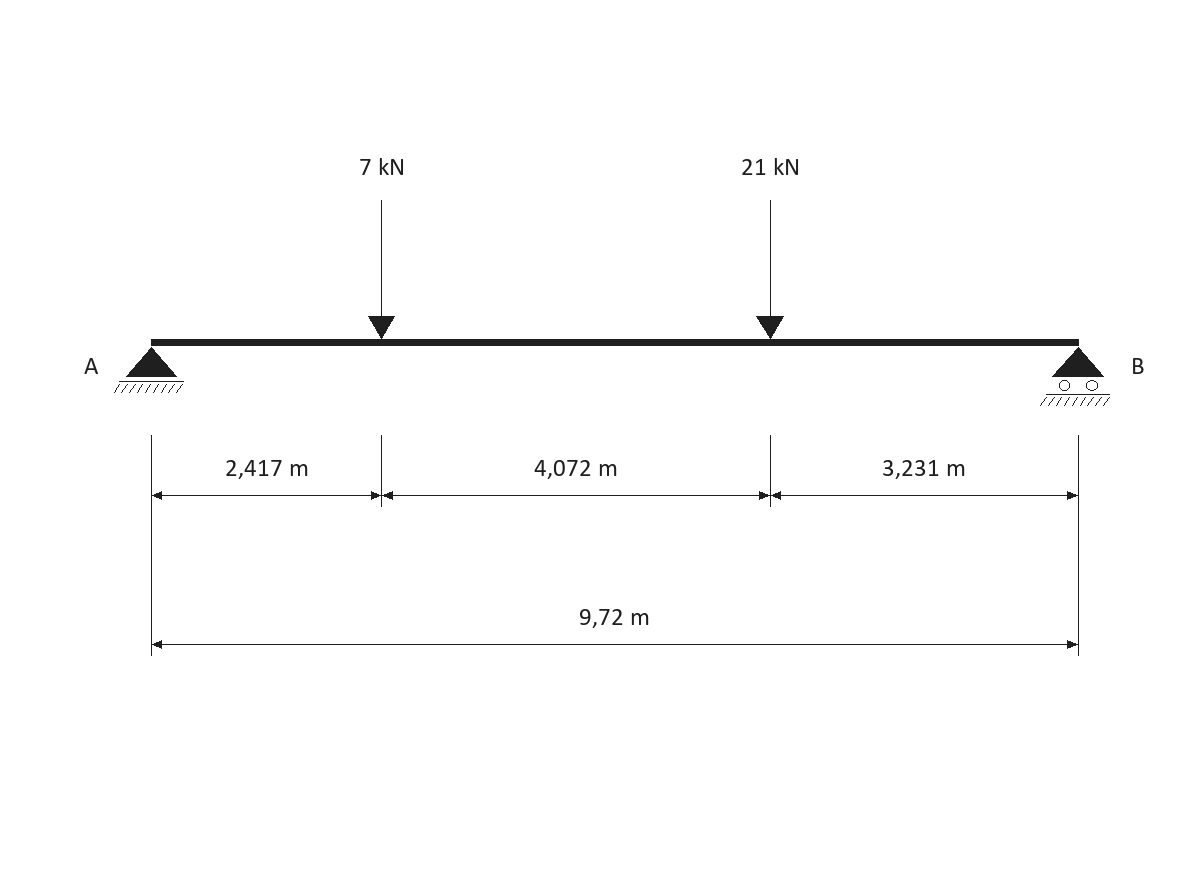pin_support: (114, 347, 184, 393)
point_load: (756, 200, 784, 339), (368, 200, 395, 339)
roller_support: (1040, 347, 1110, 406)
